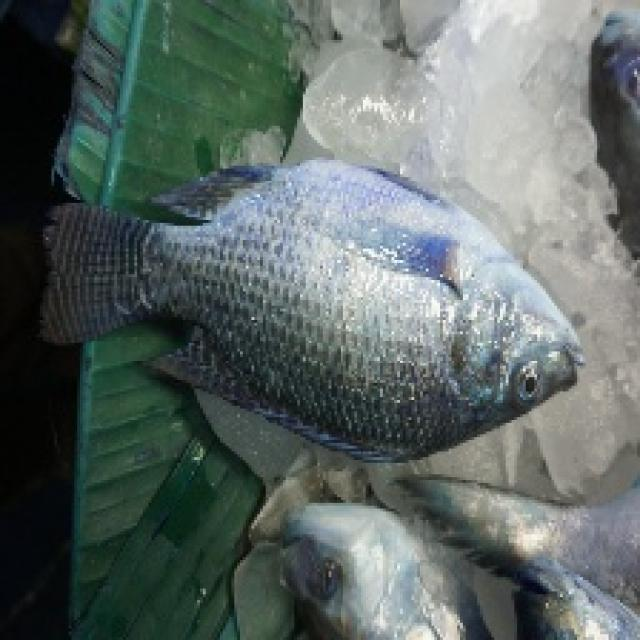Fresh: (160, 143, 598, 472)
